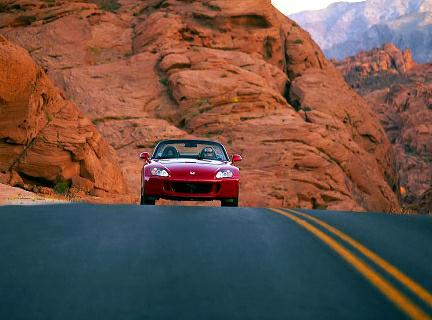本田-S2000: (138, 134, 243, 215)
